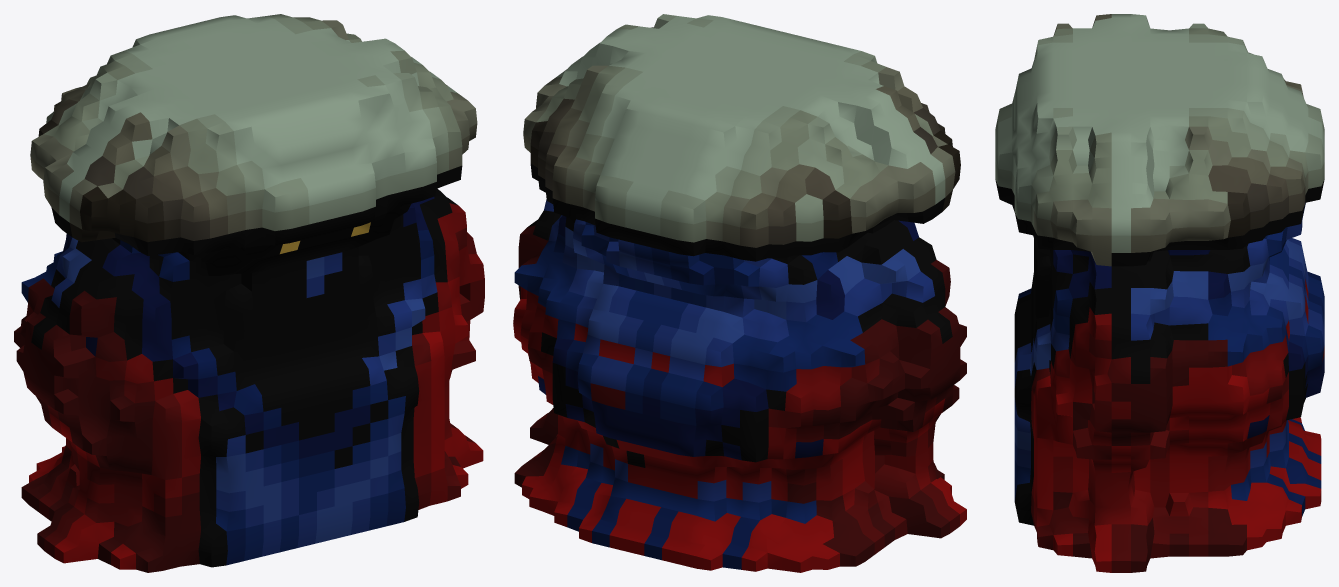
Rendered from Icon_732_02.obj.
The picture shows the model from 3 angles, left to right: view 1: azimuth 30°, elevation 25°; view 2: azimuth 150°, elevation 25°; view 3: azimuth 270°, elevation 25°; orthographic projection. The views are drawn at different scales.
Size of the model in its own units: 2.4 by 2.3 by 1.7.
